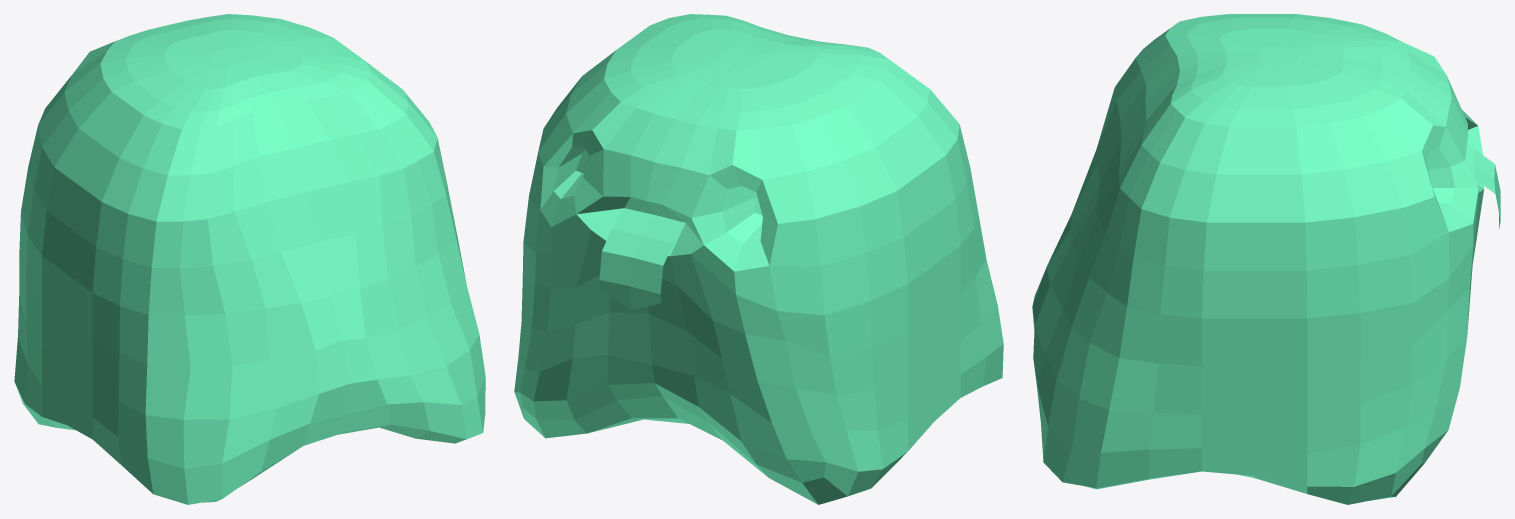
The model's file is sapo.glb.
The picture shows the model from 3 angles, left to right: view 1: azimuth 30°, elevation 25°; view 2: azimuth 150°, elevation 25°; view 3: azimuth 270°, elevation 25°; orthographic projection. The views are drawn at different scales.
Visible parts, largest first — view 1: Sapo_verde; view 2: Sapo_verde; view 3: Sapo_verde.
Boxes of the visible parts, x1,y1,x2,y2 form: Sapo_verde: [14, 14, 485, 504]; Sapo_verde: [514, 14, 1003, 504]; Sapo_verde: [1032, 14, 1500, 504].
Size of the model in its own units: 2 by 1.99 by 2.22.
